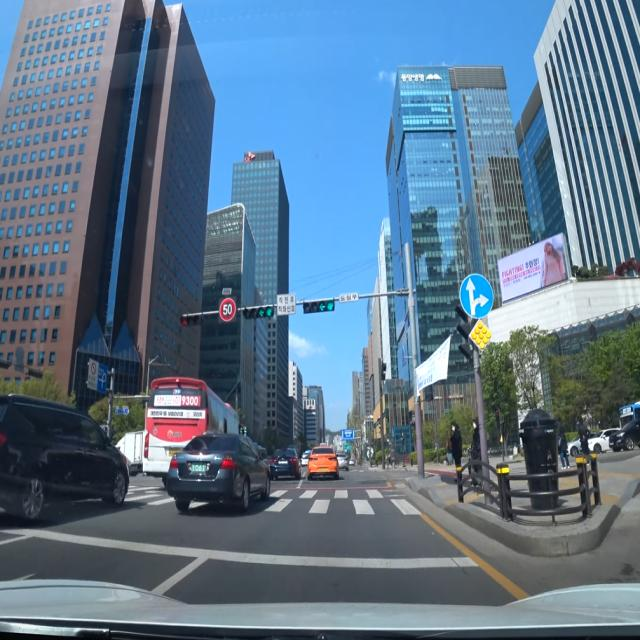Green Light: (326, 300, 334, 311), (265, 306, 273, 317)
